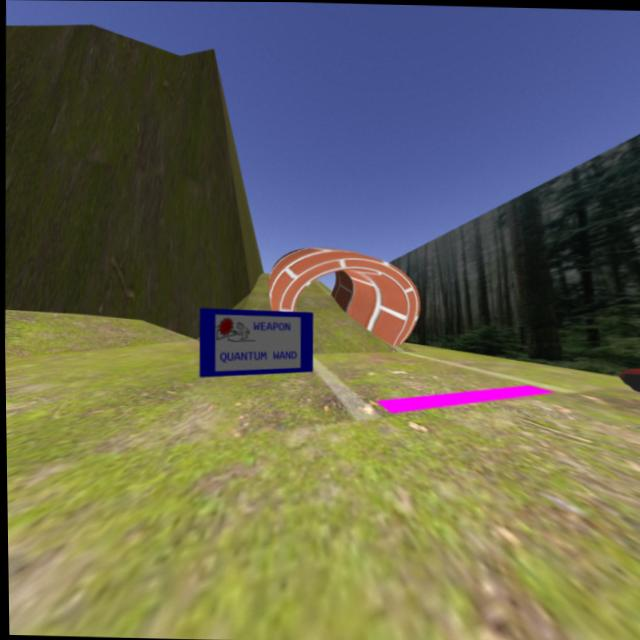clueboard: (196, 307, 314, 379)
